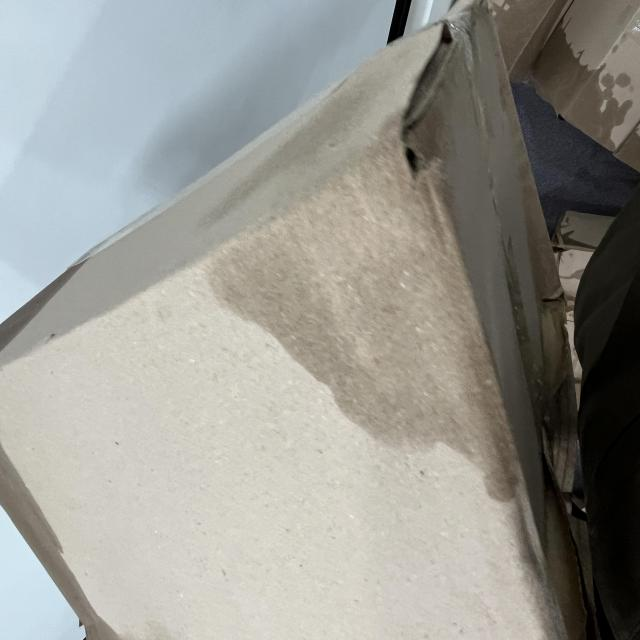wet: (134, 272, 410, 640)
